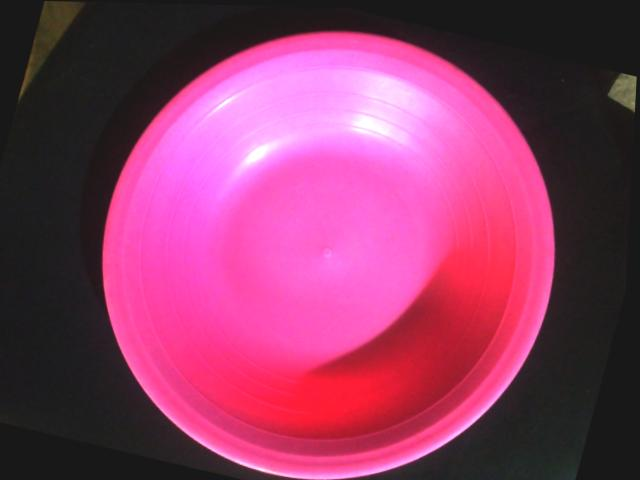Plate: (102, 32, 553, 479)
